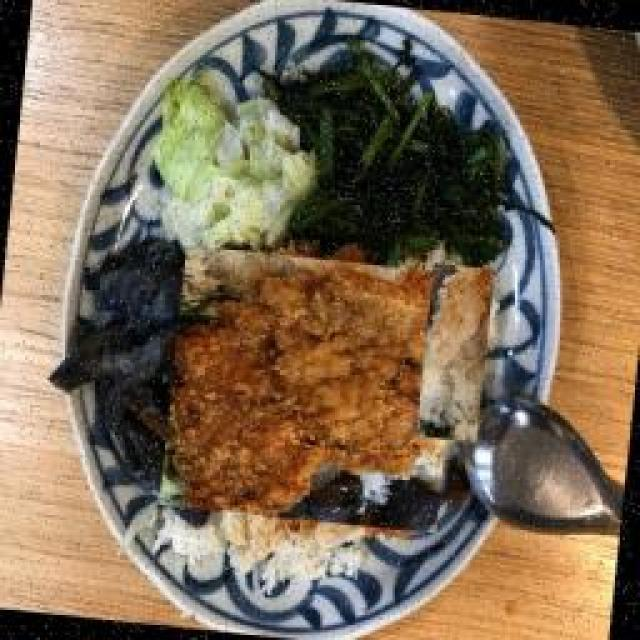chinese_cabbage: (150, 70, 305, 250)
fried_chicken: (162, 242, 460, 540)
rice: (415, 263, 495, 443), (185, 517, 368, 585)
water_spinach: (288, 65, 521, 273)
